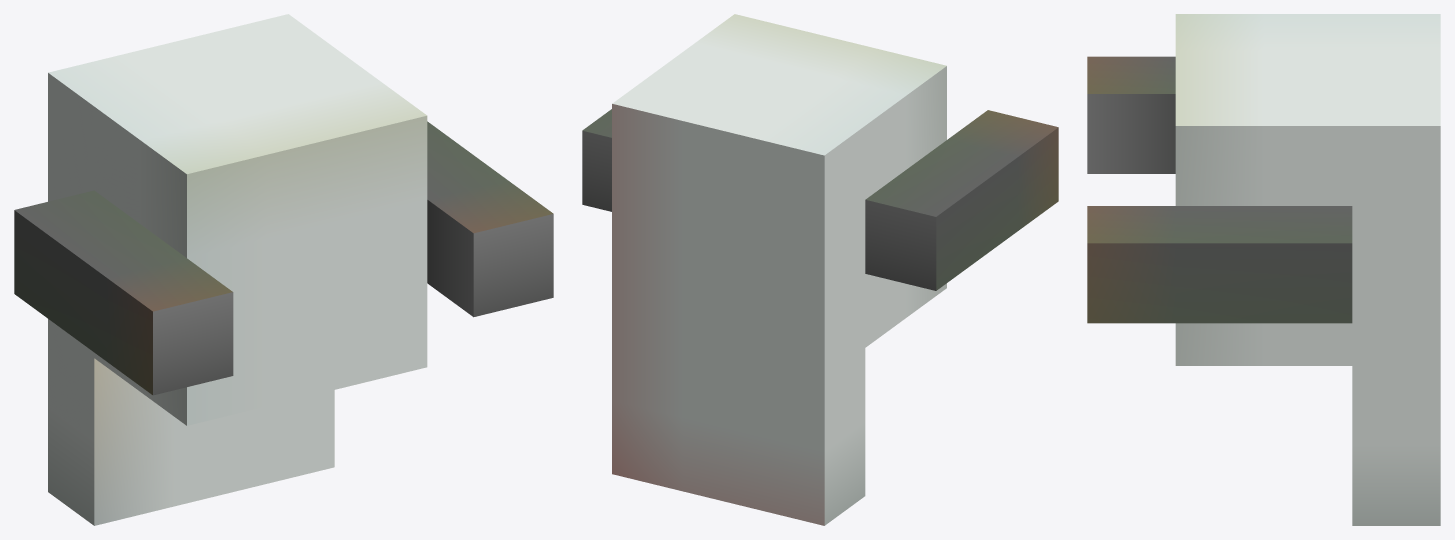
The model's file is ToiletPaperRoll_01.fbx.
3 renders of one model, left to right at view 1: azimuth 30°, elevation 25°; view 2: azimuth 150°, elevation 25°; view 3: azimuth 270°, elevation 25°, orthographic. The views are drawn at different scales.
Parts seen in each view (by area): view 1: ToiletPaperRoll_01; view 2: ToiletPaperRoll_01; view 3: ToiletPaperRoll_01.
Part boxes in pixels (box(x1,y1,x2,y2)): ToiletPaperRoll_01: box(14, 14, 553, 525); ToiletPaperRoll_01: box(582, 14, 1058, 525); ToiletPaperRoll_01: box(1087, 14, 1440, 525).
Bounding box in the file's own units: 25 × 20 × 25.
Materials: 1 (1 with a texture image).
